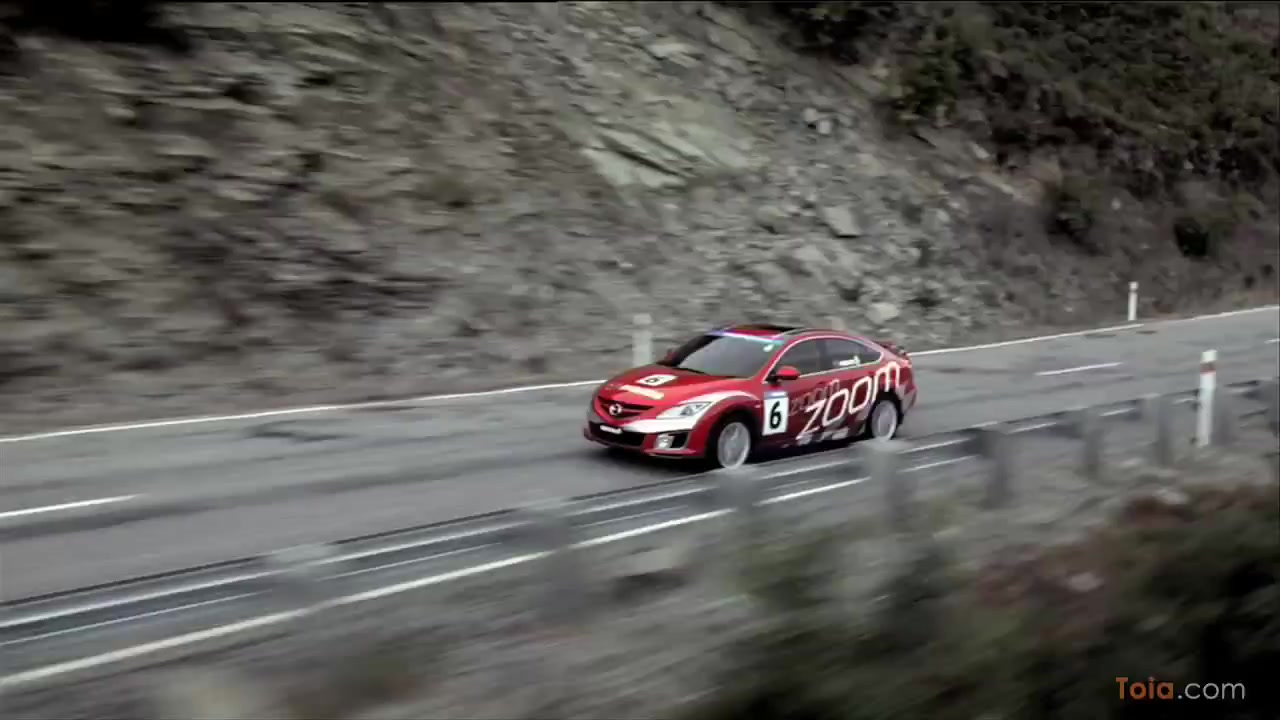car: (581, 319, 923, 476)
